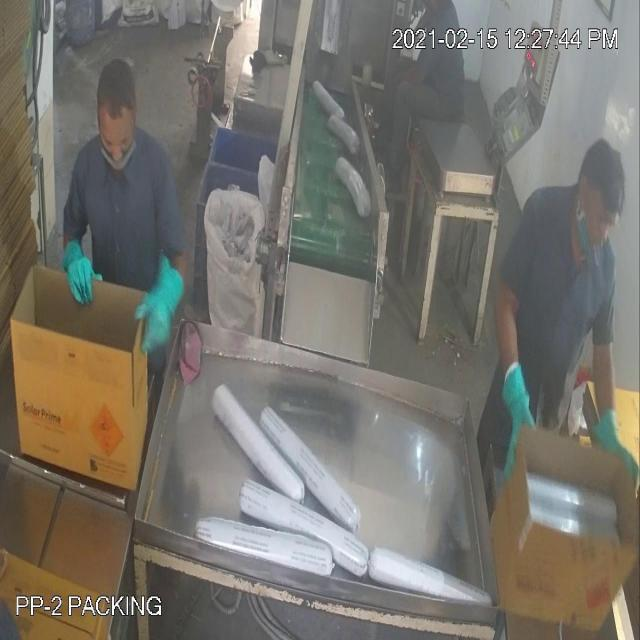Gloves: (54, 112, 613, 441)
